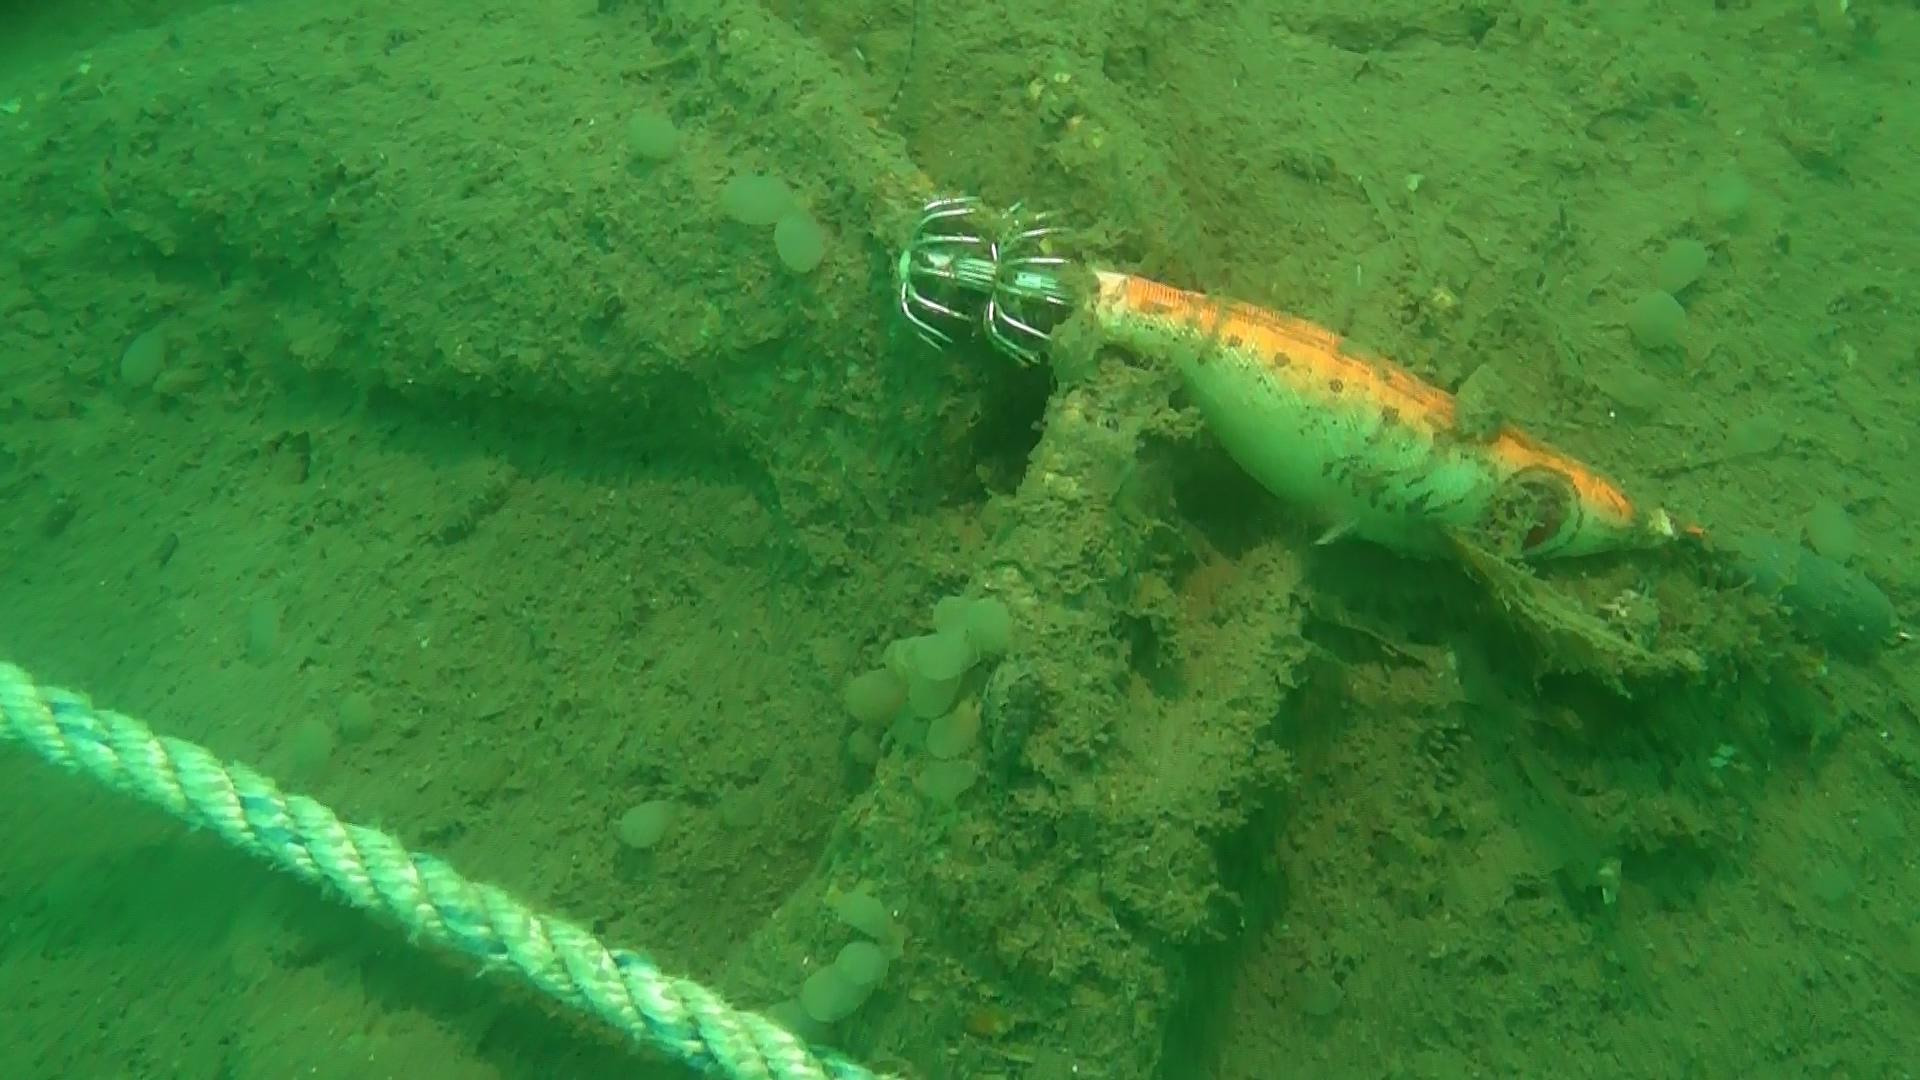rope: (0, 644, 923, 1080)
